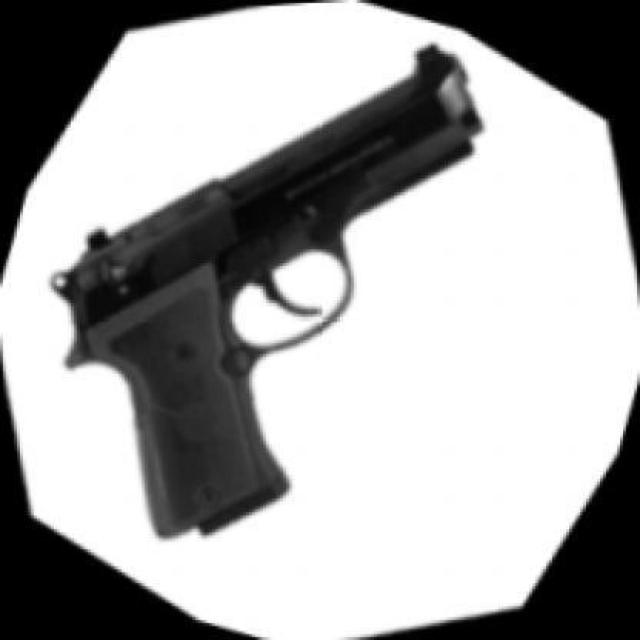weapon: (48, 42, 486, 539)
